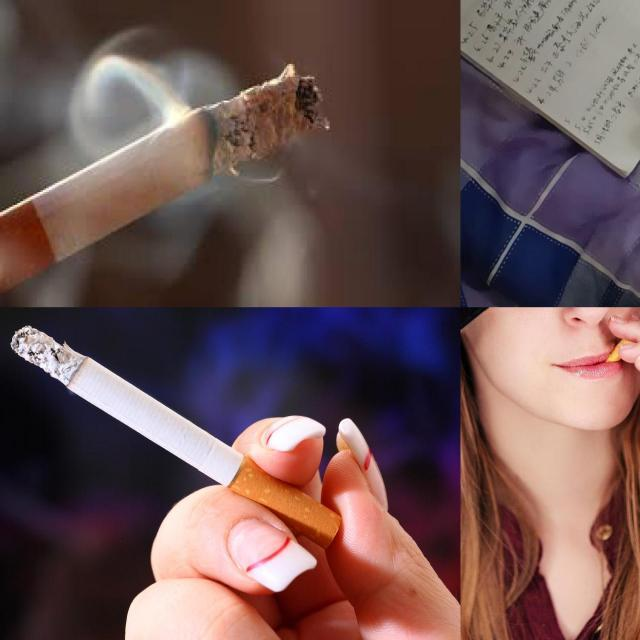cigarette: (0, 64, 332, 304), (8, 324, 344, 550)
